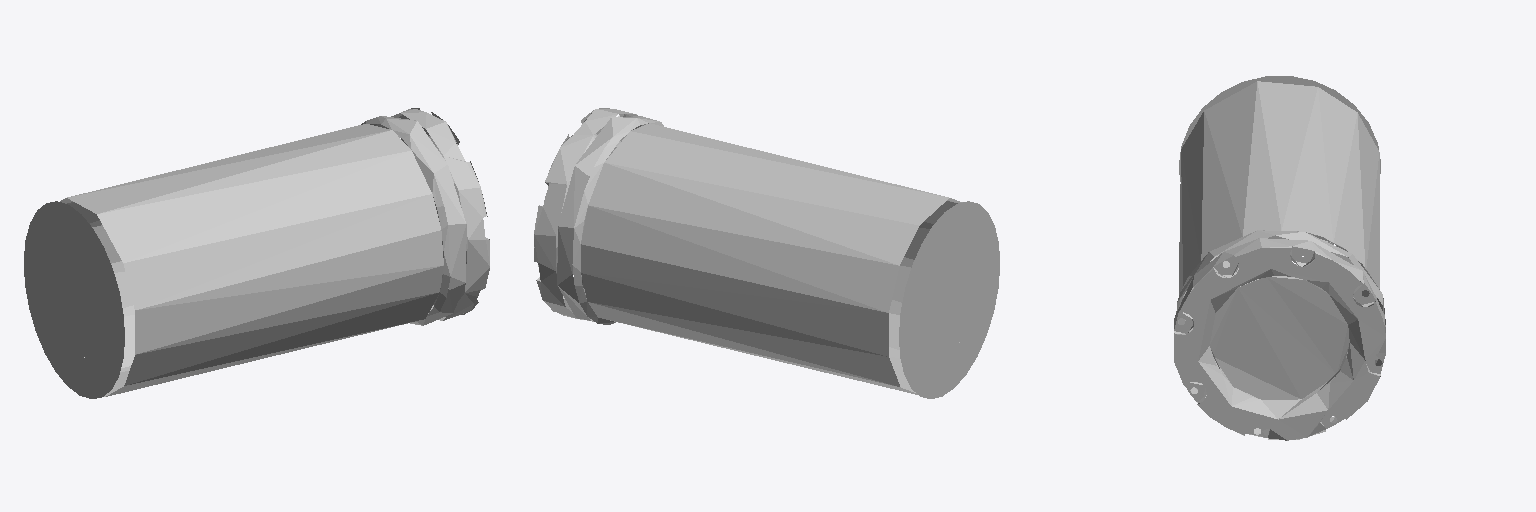
File: cam01.obj
The picture shows the model from 3 angles: view 1: azimuth 30°, elevation 25°; view 2: azimuth 150°, elevation 25°; view 3: azimuth 270°, elevation 25°; orthographic projection.
Size of the model in its own units: 0.1653 by 0.0855 by 0.0839.